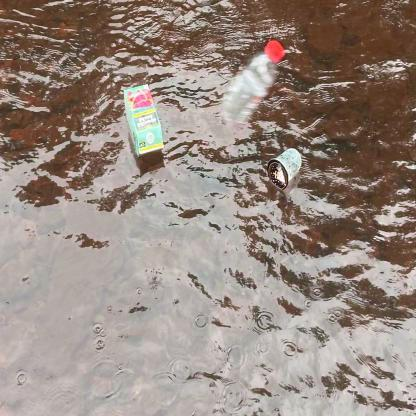Plastic: (215, 35, 290, 134), (266, 145, 308, 193)
